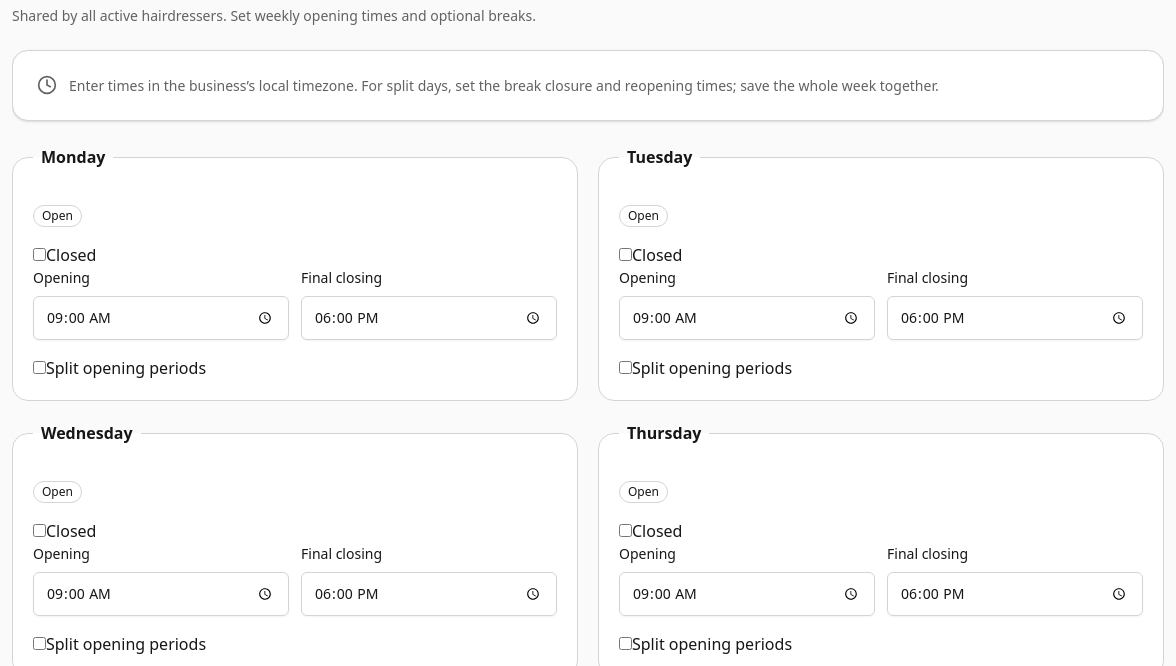
Test: closing Monday saves a clean week without unsupported empty break fields
Click the checkbox named "Monday closed" at (40, 254), box [33,248,46,261]
(page scrolled)
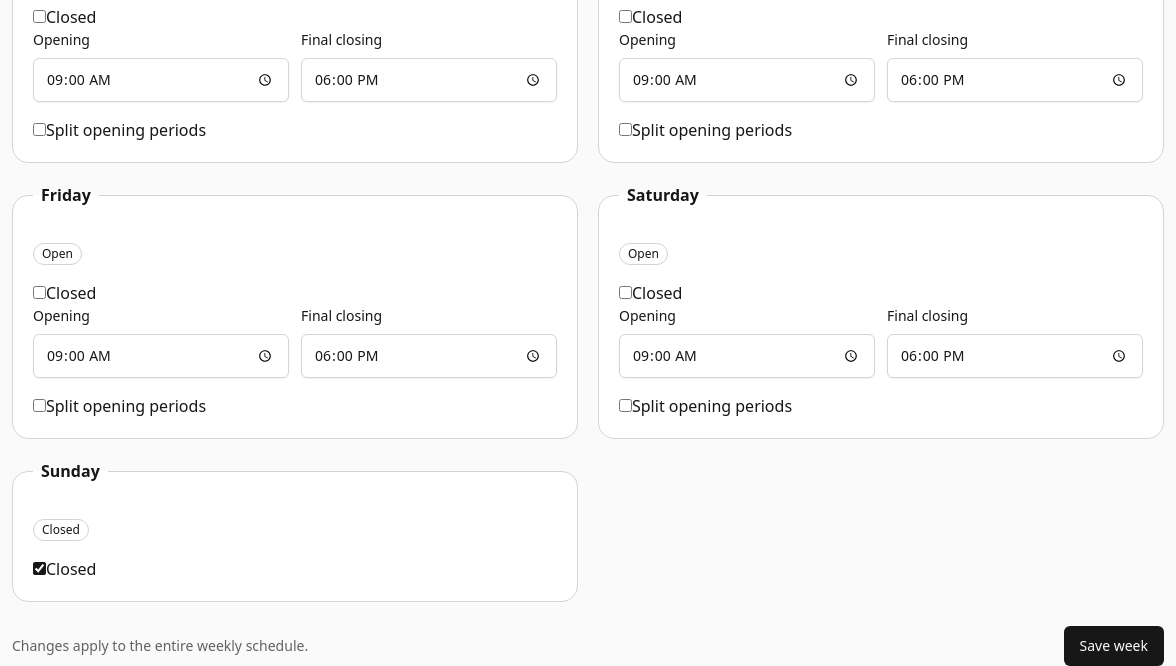
Click the button "Save week" at (1114, 646), box [1064,626,1164,665]
(page scrolled)
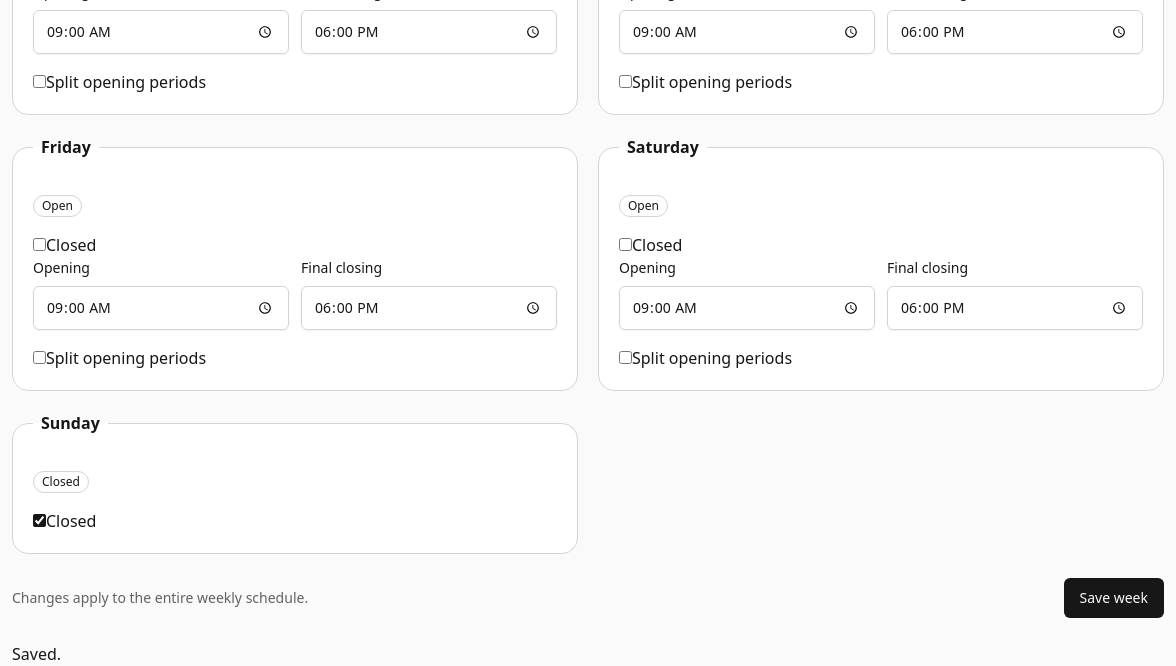
Check: the text "Saved." is shown, box [12,643,61,665]
